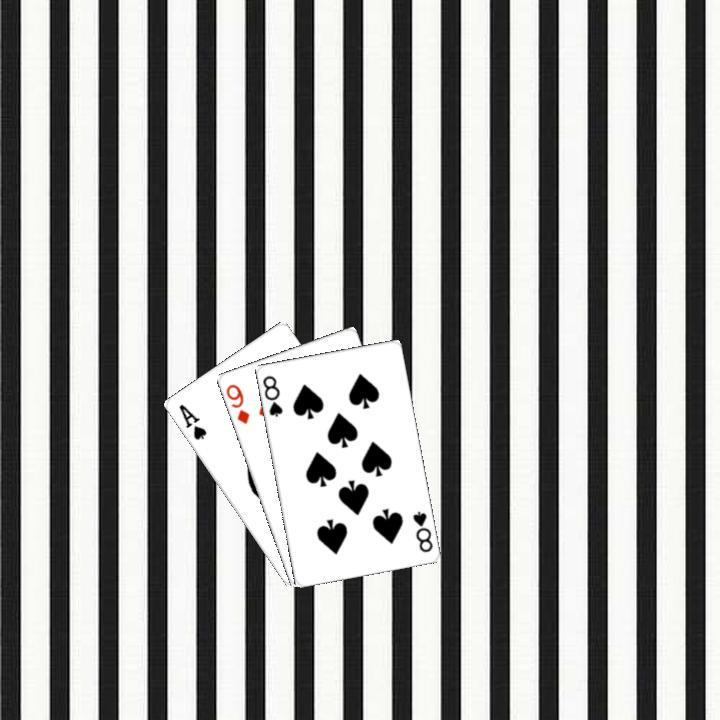8: (258, 371, 284, 419), (408, 506, 434, 554)
9: (221, 379, 251, 426)
A: (174, 400, 208, 442)
